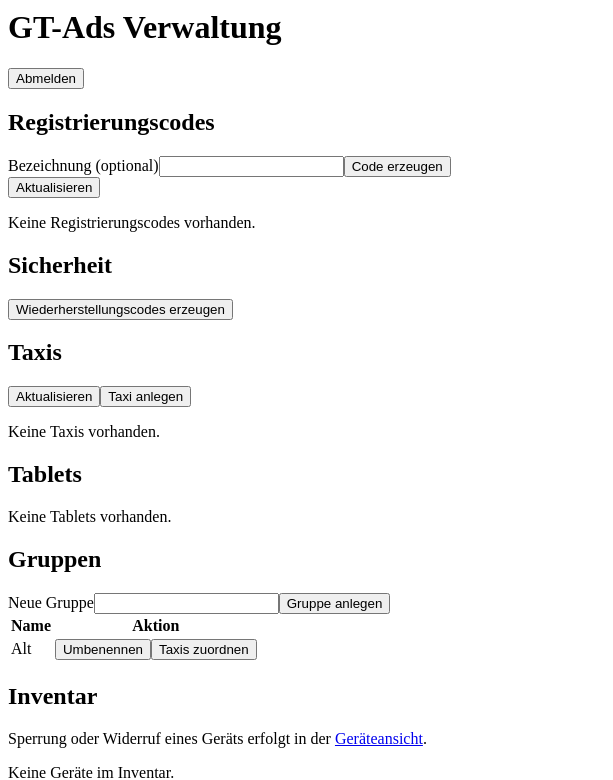
Test: CX-136 Gruppenname im Dashboard aendern › sendet Kennung, neuen Namen und Revision und zeigt die Serverantwort
The width and height of the screenshot is (613, 780).
Expected: the text "Alt" is shown, [10,638,52,661]
Click the button "Umbenennen". click: (103,649)
box: [55,639,151,660]
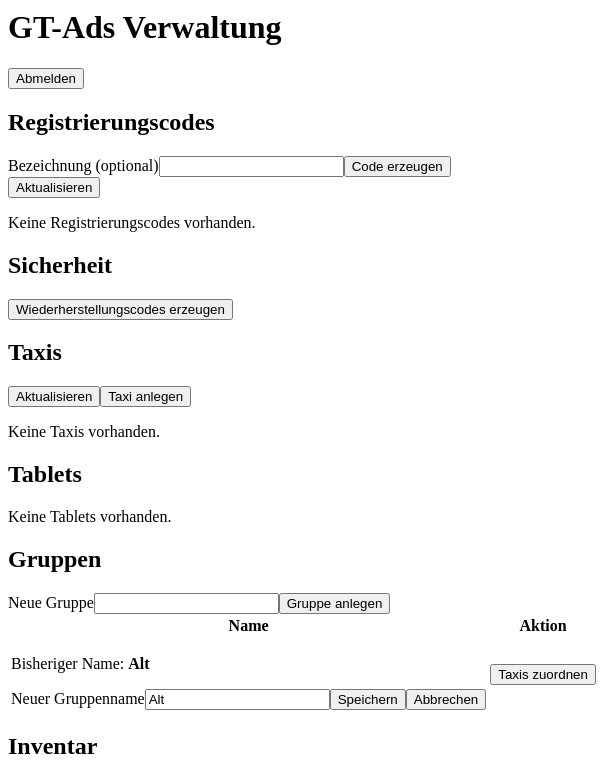
Expected: the field labelled "Neuer Gruppenname" holds "Alt"
Replace the text in the field labelled "Neuer Gruppenname" with "Neu". click: (237,699)
box: [145,689,330,710]
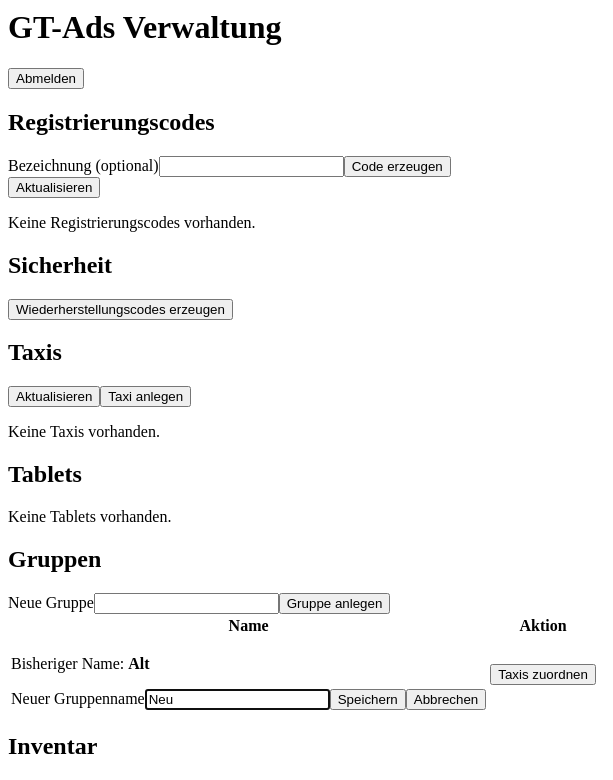
Click the button "Speichern". click: (368,699)
box: [330,689,406,710]
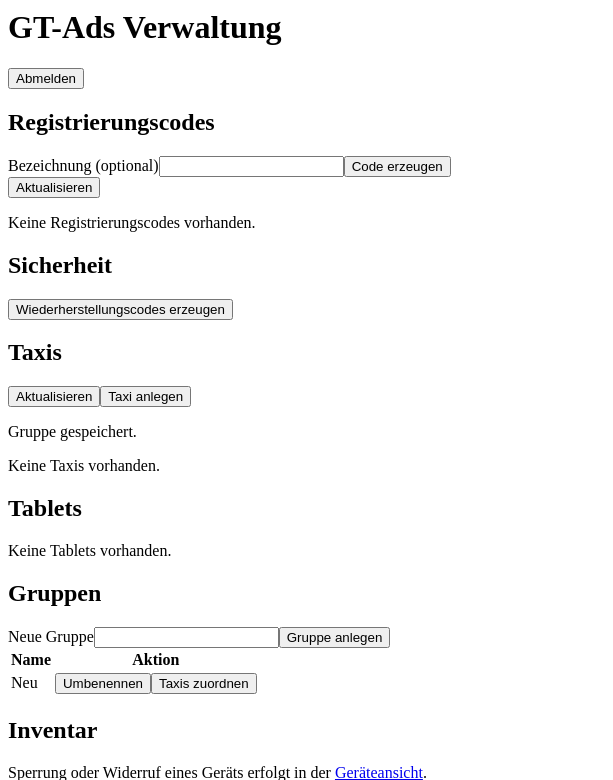
Expected: the text "Neu" is shown, [10,672,52,695]
Expected: the label labelled "Neuer Gruppenname" is gone
